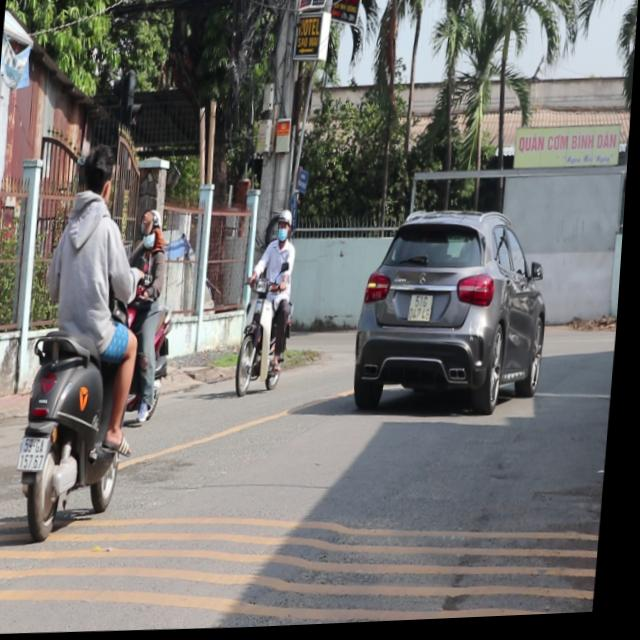helmet: (277, 210, 296, 246)
licenseplate: (14, 139, 159, 543), (120, 205, 187, 430), (236, 207, 305, 400)
motorcyclist: (78, 143, 117, 207)
nohelmet: (24, 436, 54, 470)
